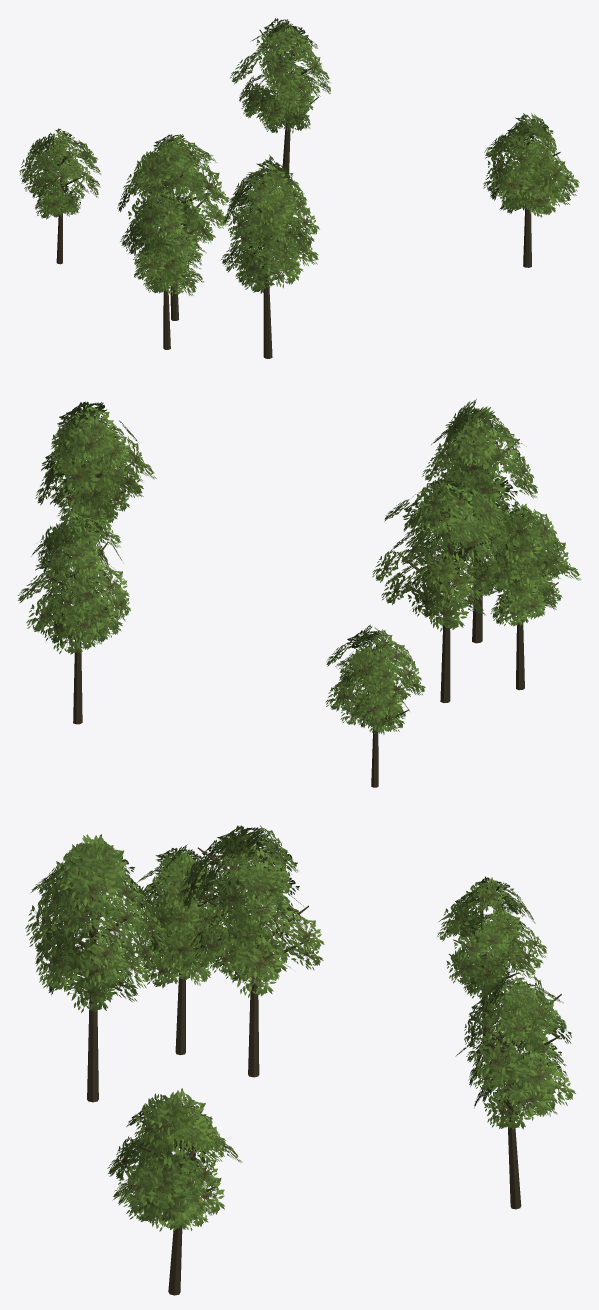
File: TRB8-FOREST-CHUNK-1-3.glb
3 renders of one model, top to bottom at view 1: azimuth 30°, elevation 25°; view 2: azimuth 150°, elevation 25°; view 3: azimuth 270°, elevation 25°, orthographic. The views are drawn at different scales.
Parts seen in each view (by area): view 1: TRB8-FOREST-CHUNK-1-3; view 2: TRB8-FOREST-CHUNK-1-3; view 3: TRB8-FOREST-CHUNK-1-3.
Boxes of the visible parts, left/top/right/bottom form: TRB8-FOREST-CHUNK-1-3: left=19, top=18, right=579, bottom=358; TRB8-FOREST-CHUNK-1-3: left=17, top=399, right=581, bottom=787; TRB8-FOREST-CHUNK-1-3: left=25, top=825, right=575, bottom=1295.
Size of the model in its own units: 14.74 by 6.32 by 12.
2 materials, 1 textured.
